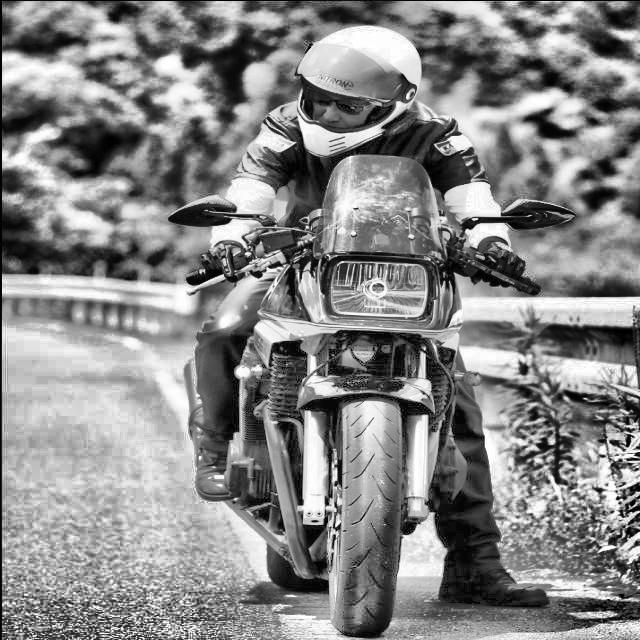Helmet: (286, 21, 428, 161)
